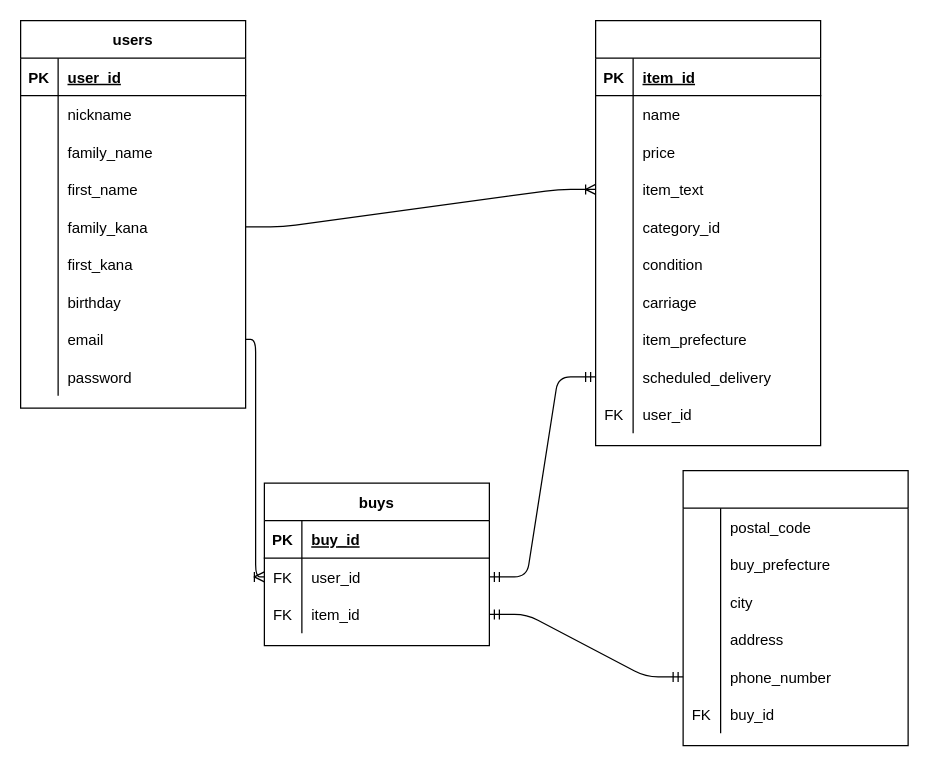
Image size: 929x766. Some labels were removed from this diagram. The shapes that lost their labels are listed below. From the top down, each one's box as (x1, y1, x2, y2) in pixels, then its label:
(594, 19, 821, 446): items
(682, 469, 908, 746): distribution
